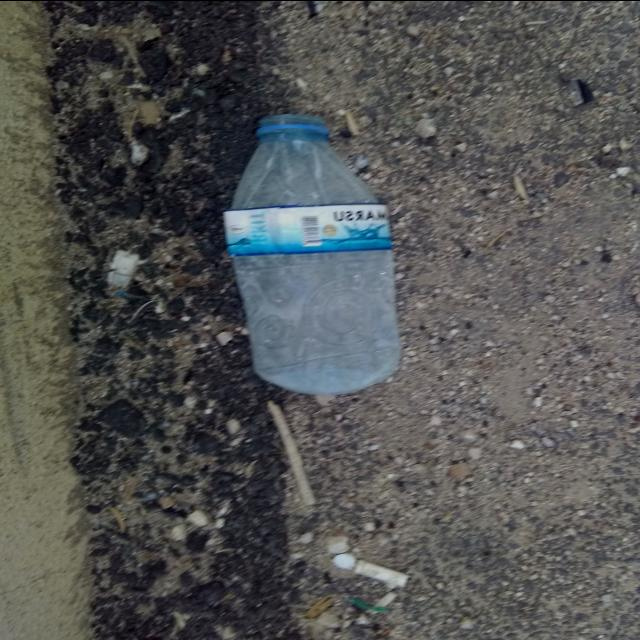Cigarette: (354, 560, 405, 585)
Clear plastic bottle: (227, 112, 399, 395)
